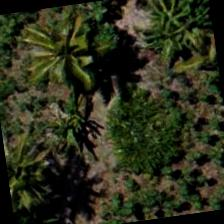Kelapa_Sawit: (13, 8, 115, 110), (127, 0, 221, 91), (2, 129, 75, 223)
